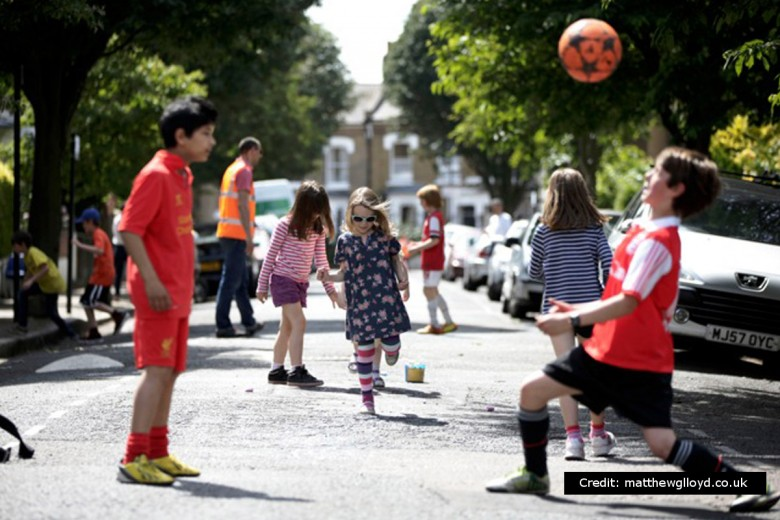Person: (543, 134, 736, 472), (109, 97, 225, 500), (341, 188, 415, 420), (257, 172, 336, 386)
